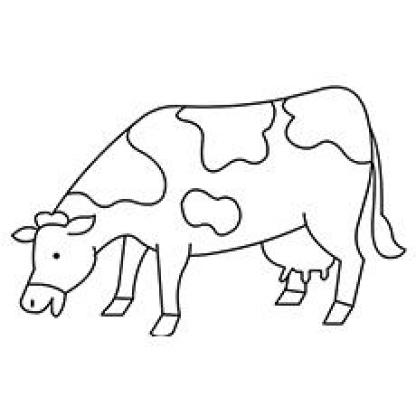cow: (18, 86, 373, 339)
